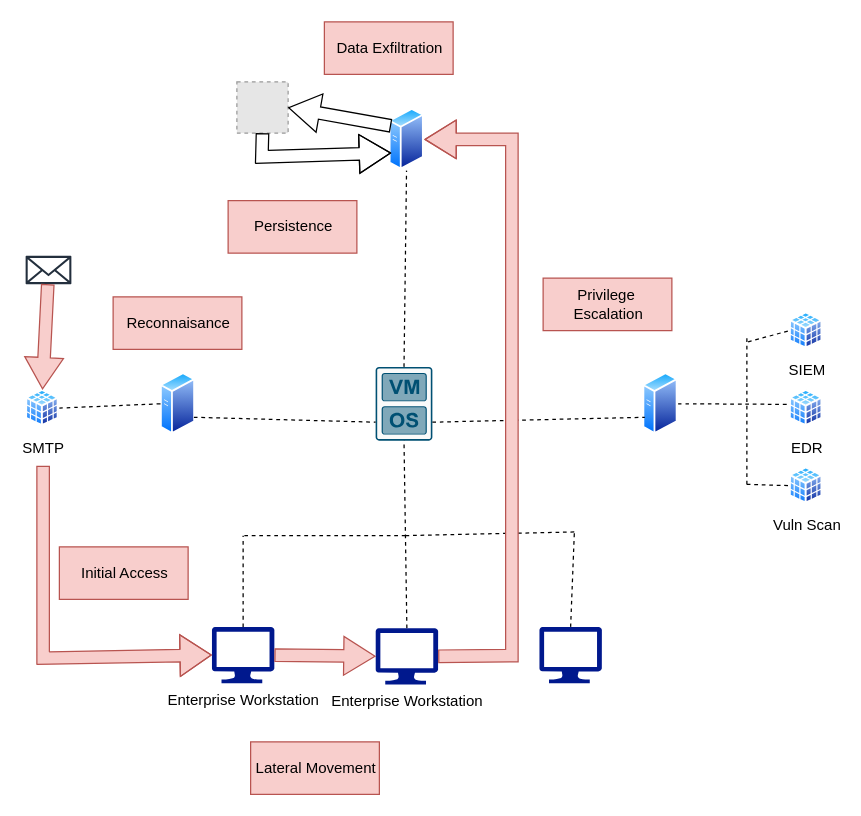
Some shapes in this 861 by 816 pixel diagram are drawn without their labels. Grey dashed boxes stand in for pictures. The shapes that lost their labels are listed below. From the top down, each one's box as (x1, y1, x2, y2) in pixels, then its label:
(389, 108, 424, 170): Directory Services Server
(160, 372, 195, 434): E-Mail Server
(374, 366, 432, 441): Hypervisor
(642, 372, 678, 434): Sec Box
(539, 626, 601, 682): Security Workstation
